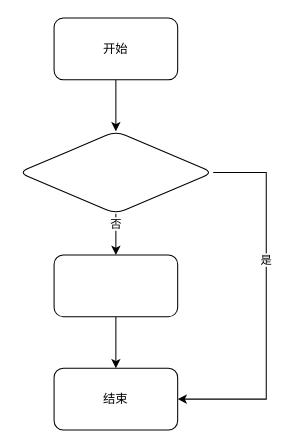
Some shapes in this 293 by 448 pixel diagram are drawn without their labels. The shapes that lost their labels are listed below. From the top down, each one's centre as x and y in pixels, then its label:
(115,172): 本地词条库版本和服务端一致
(115,285): 从OSS拉取最新词条库
